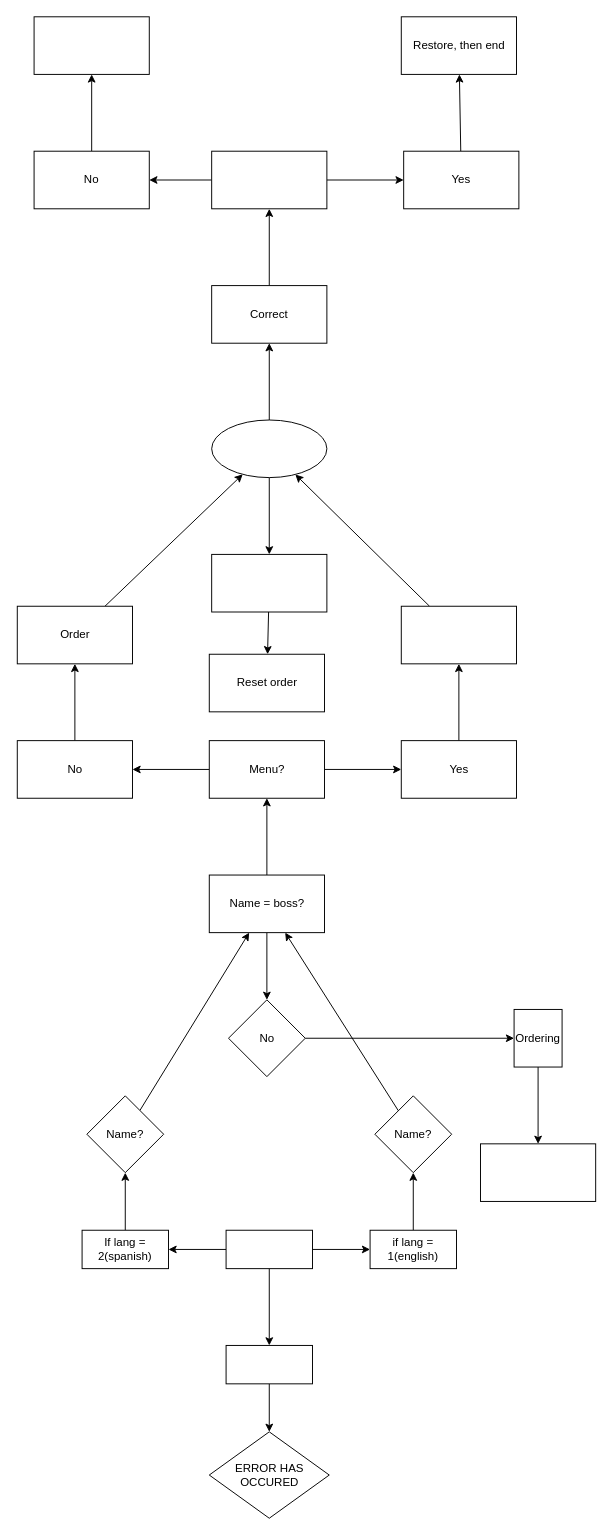
The diagram is 612 pixels wide and 1535 high, and some of its shapes have lost their labels. Each missing label, with the centre of its shape:
"Elif" belongs at pixel 268 1364.
"End" belongs at pixel 91 45.
"End Order" belongs at pixel 538 1172.
"Incorect" belongs at pixel 269 582.
"Lang = 1 or 2" belongs at pixel 268 1249.
"Menu. then order" belongs at pixel 458 634.
"Password?" belongs at pixel 269 448.
"Restoration needed?" belongs at pixel 269 179.
